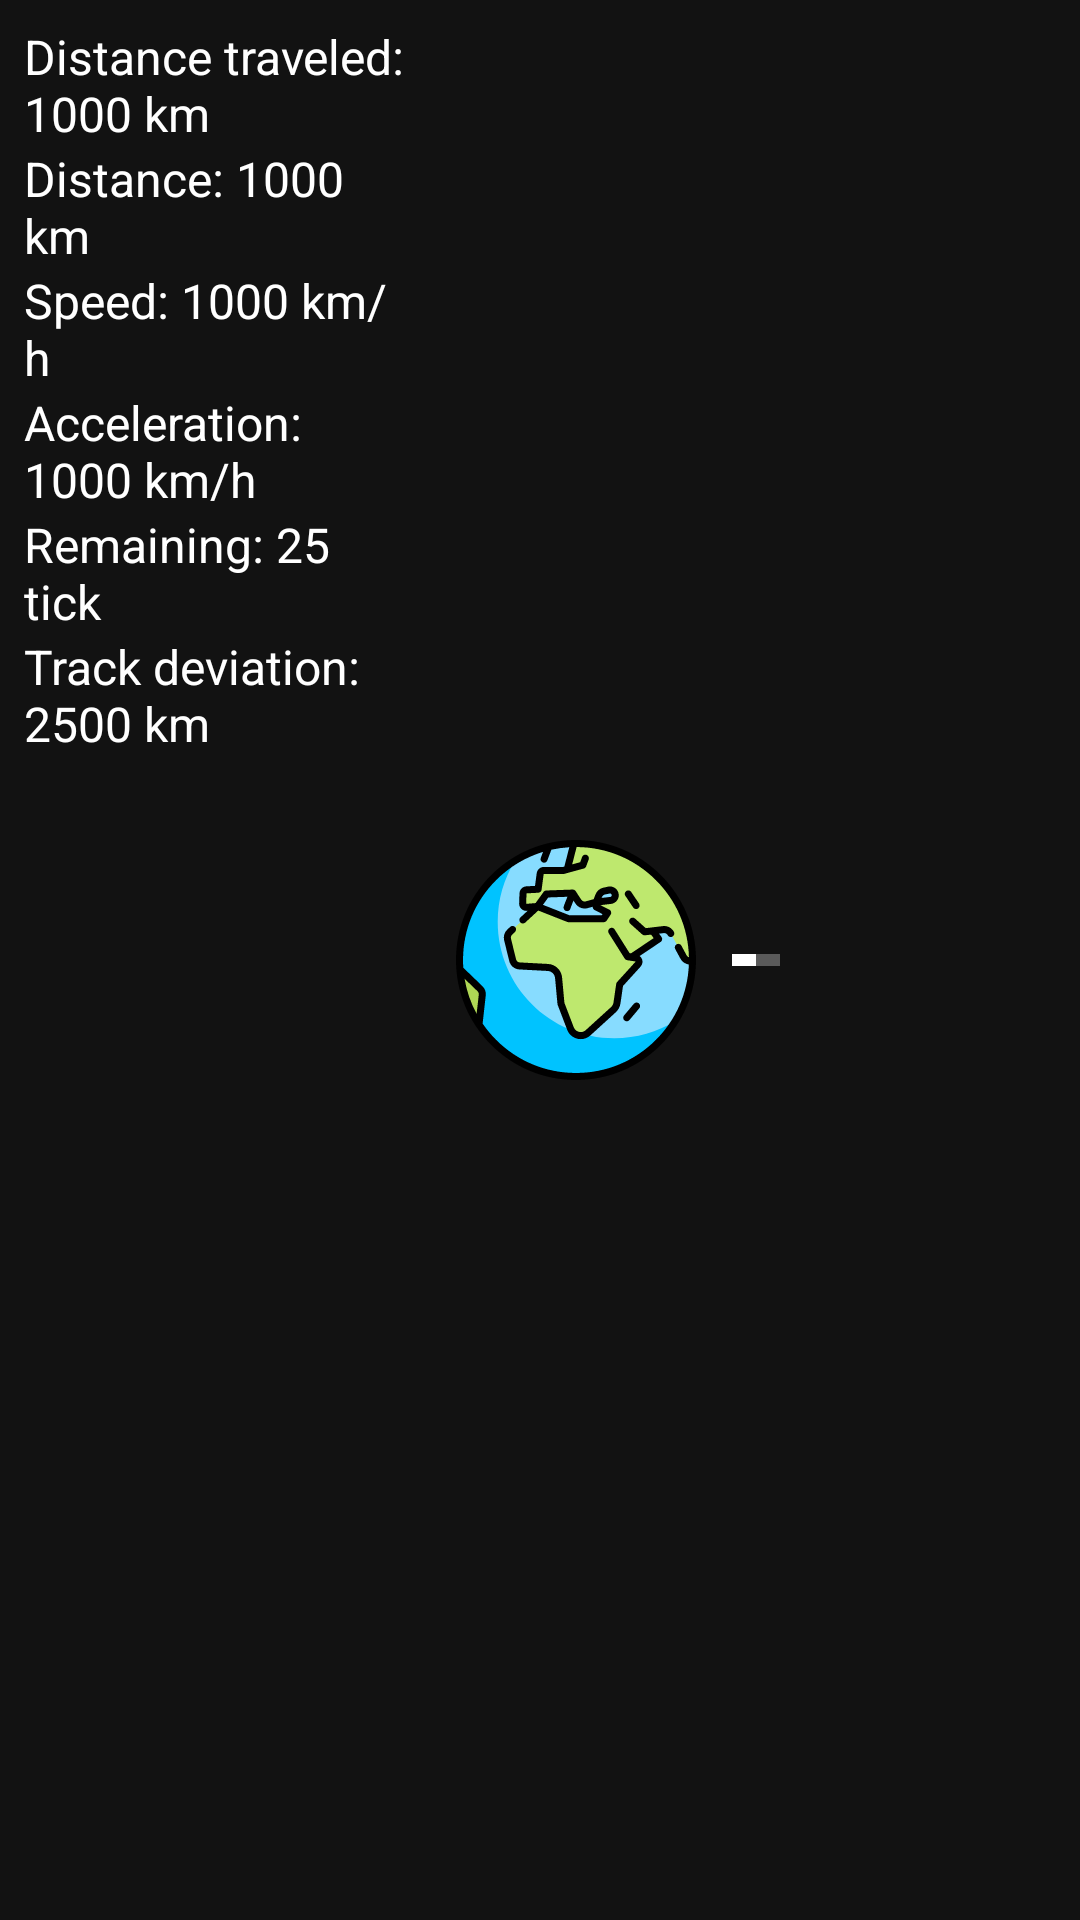

Point at icon controls on the screen. Image size 1080 × 1920, points as point (x, y).
earth globe: point (576, 960)
